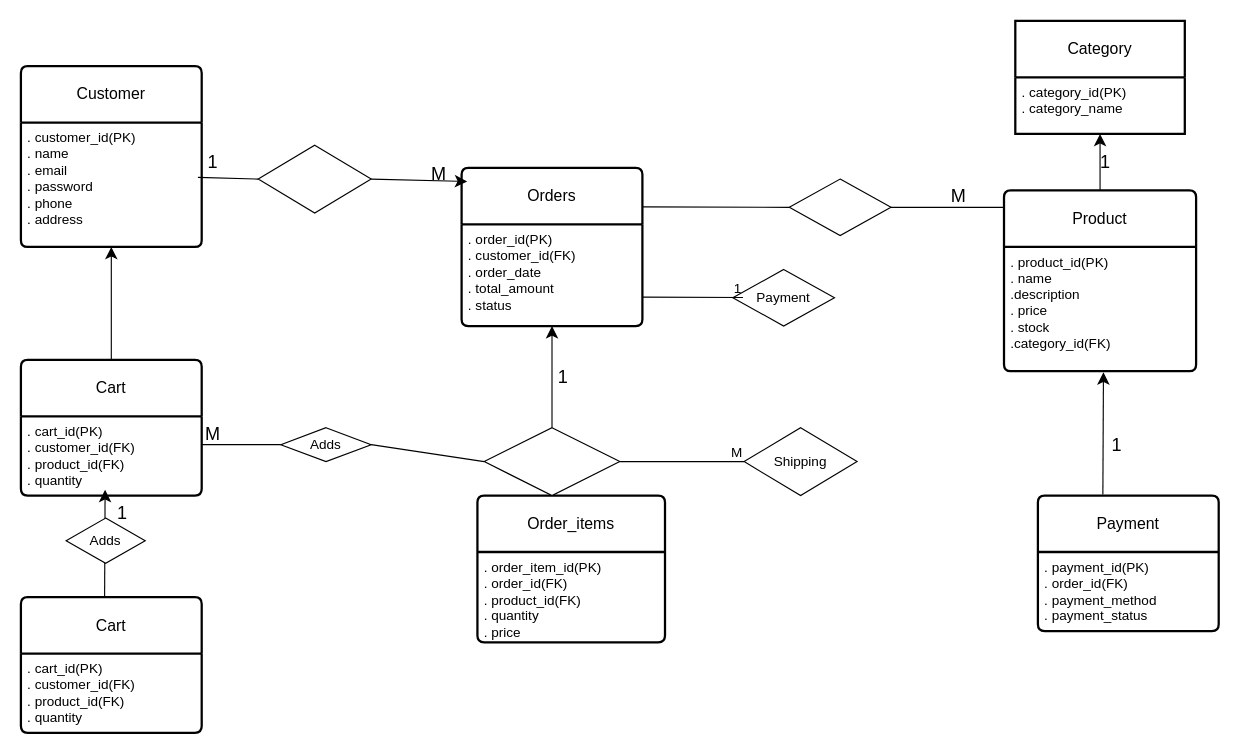
Image size: 1238x753. Some labels were removed from this diagram. Here are the shapes that lost their labels. From the top down, the centre of each, then its label:
point 314,178: Places
point 839,207: Belongs To
point 551,461: Contains
